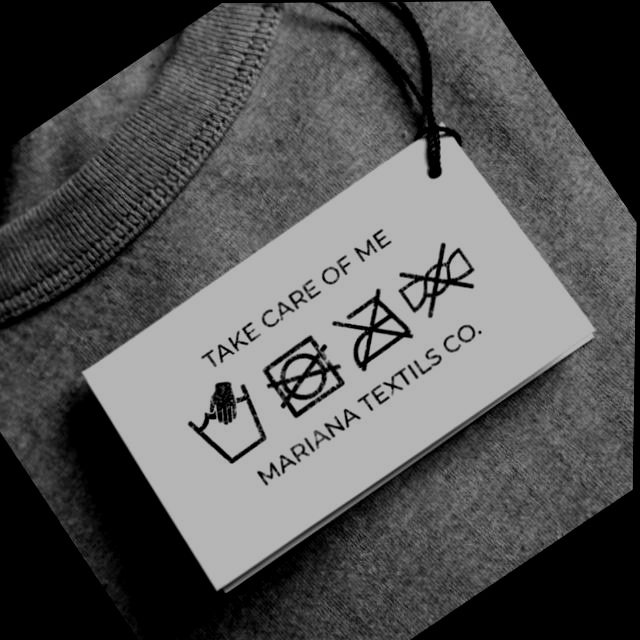DN_iron: (336, 290, 409, 369)
DN_tumble_dry: (261, 335, 340, 413)
DN_wring: (398, 241, 476, 314)
hand_wash: (187, 379, 267, 469)
